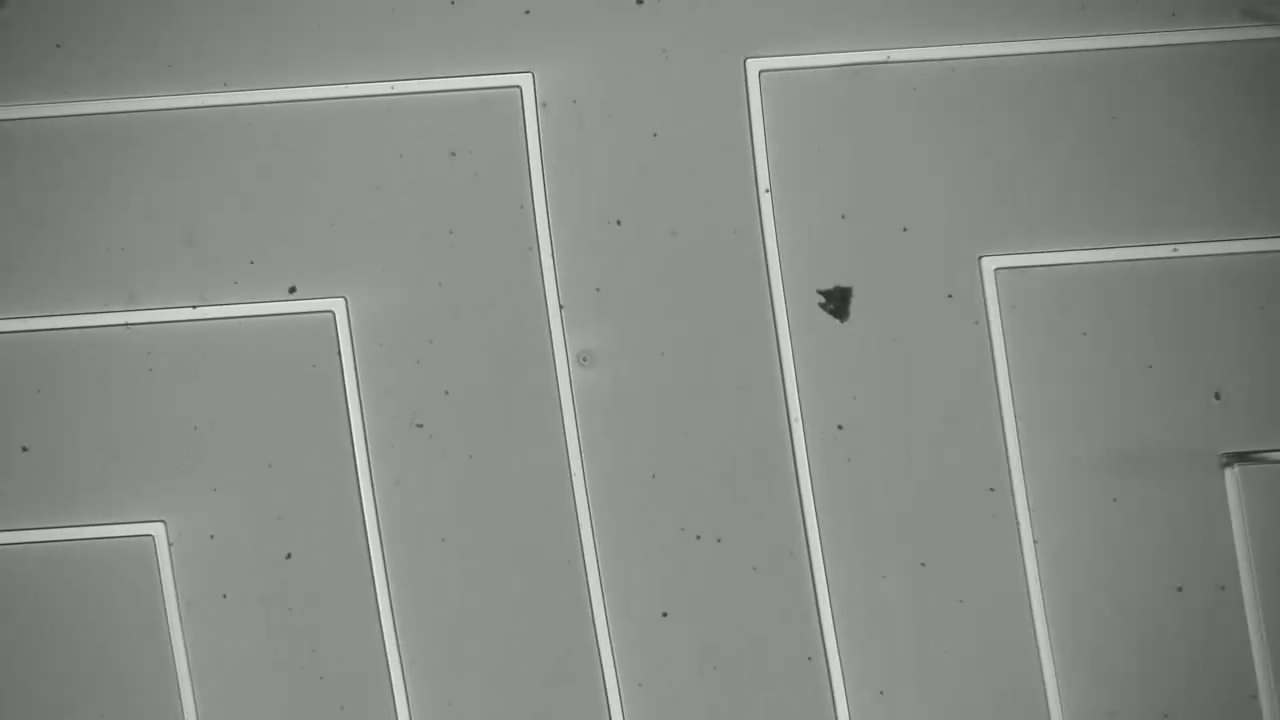gray_line: (1196, 435, 1279, 479)
